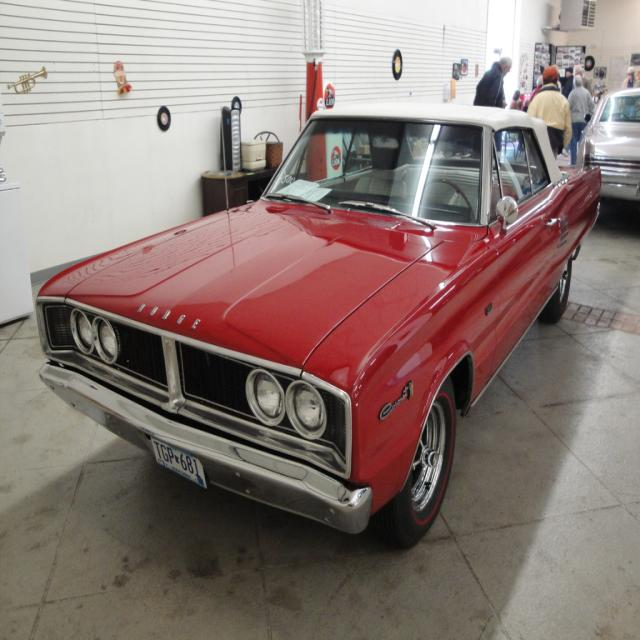car: (31, 91, 606, 547)
